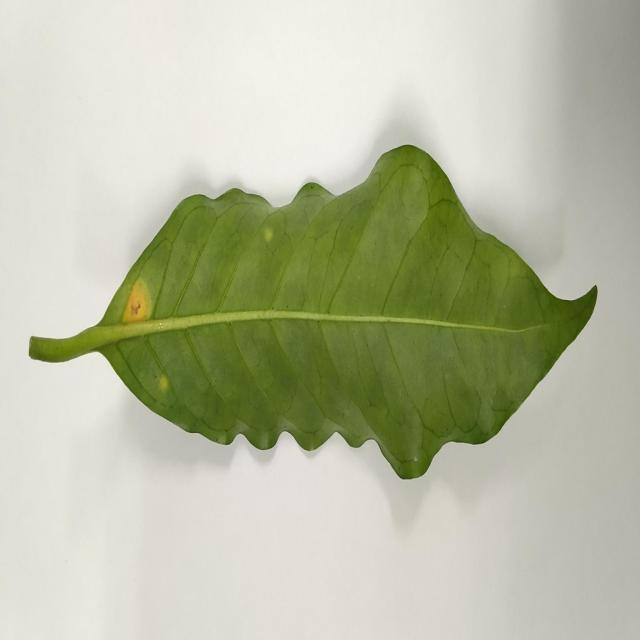Enfermedad-Roya: (27, 144, 600, 484)
